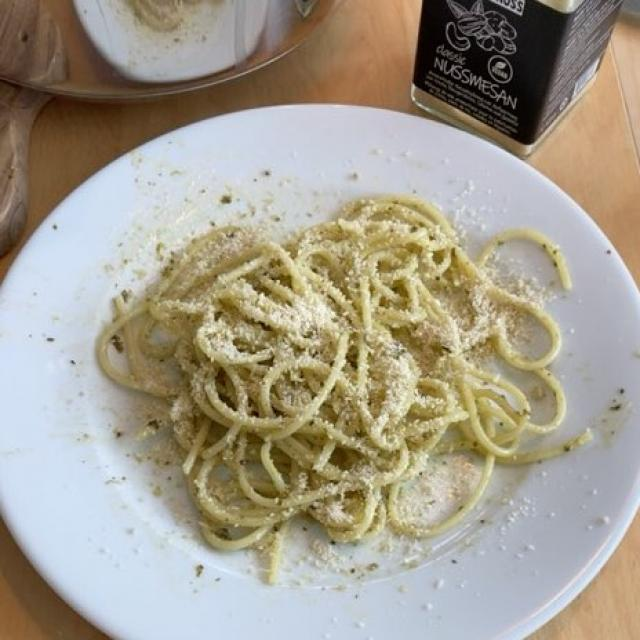parmesan: (230, 248, 494, 434)
pasta: (101, 202, 562, 566)
